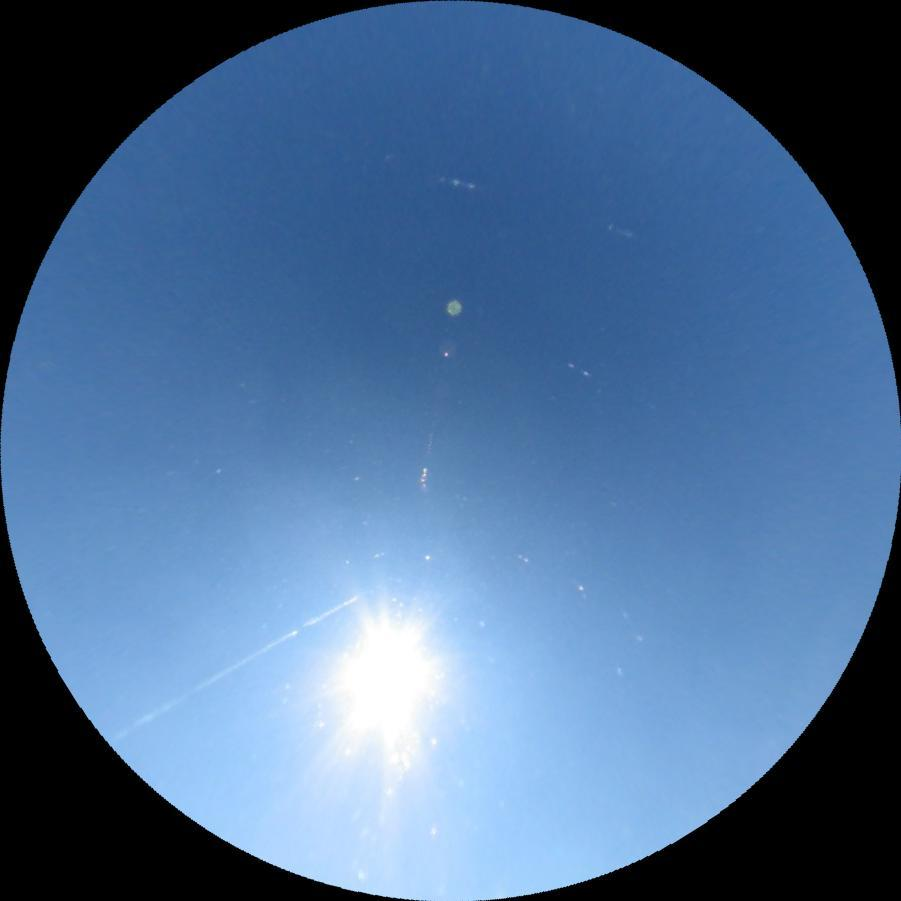parasite: (106, 592, 361, 745), (435, 175, 479, 190), (562, 359, 594, 378), (602, 219, 634, 237)
sun: (297, 588, 476, 771)
